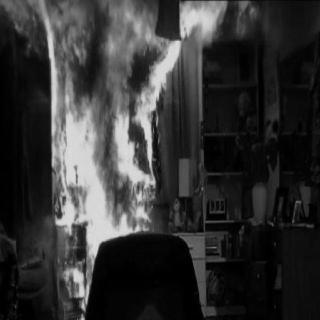Fire: (48, 40, 184, 302)
